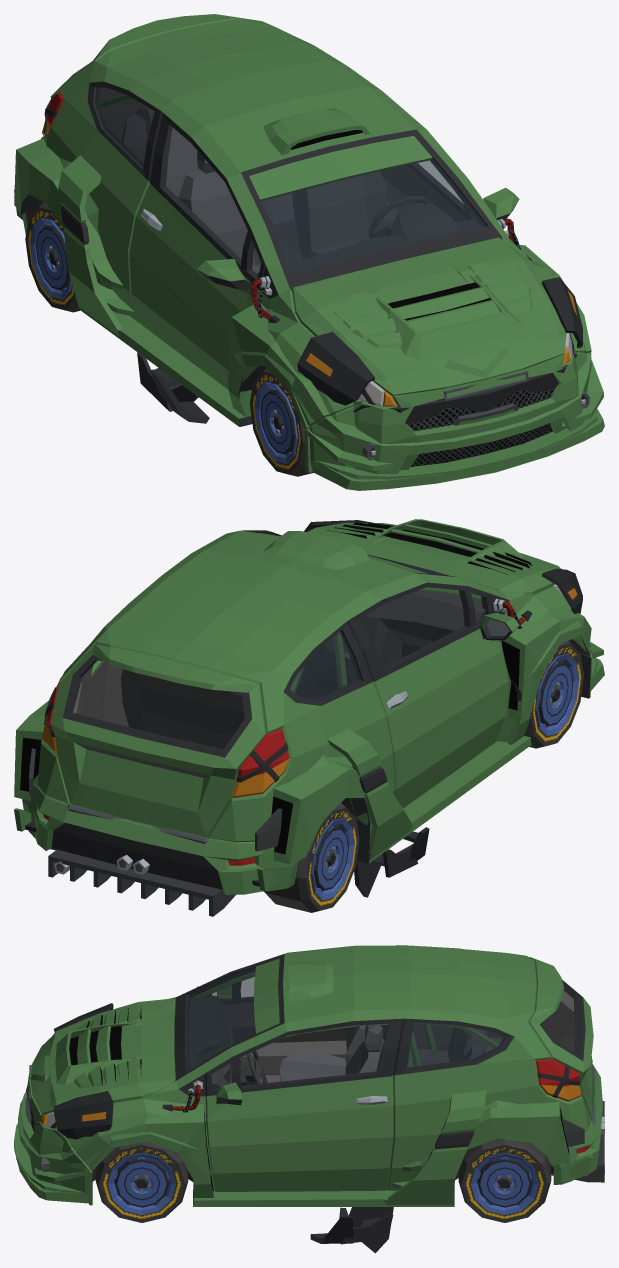
File: redline_street_hatch.glb
The picture shows the model from 3 angles, top to bottom: view 1: azimuth 30°, elevation 25°; view 2: azimuth 150°, elevation 25°; view 3: azimuth 270°, elevation 25°; orthographic projection. The views are drawn at different scales.
Parts seen in each view (by area): view 1: Body, Glass, Door_R, V_Bonnet_04, V_Front_Bumper_03, V_Front_Bumper_01, V_Fenders_03, V_Bonnet_01, V_Bonnet_02, V_Fenders_04, V_Windscreen_Sticker_01, V_Side_Skirts_04 (+14 smaller); view 2: Body, Trunk, Door_R, V_Fenders_03, V_Rear_Bumper_02, V_Rear_Bumper_03, V_Side_Skirts_04, V_Side_Skirts_03, V_Bonnet_04, V_Fenders_02, Glass, V_Bonnet_02 (+17 smaller); view 3: Body, Door_L, Glass, V_Fenders_03, V_Side_Skirts_04, V_Bonnet_04, Trunk, W_Wheel_RL_03, Door_R, W_Wheel_FL_03, V_Fenders_04, V_Side_Skirts_03 (+19 smaller).
Boxes of the visible parts, <box> form: Body: <box>41,19,572,406</box>; Glass: <box>95,87,486,274</box>; Door_R: <box>129,113,265,389</box>; V_Bonnet_04: <box>293,237,565,381</box>; V_Front_Bumper_03: <box>304,352,604,490</box>; V_Front_Bumper_01: <box>354,351,578,470</box>; V_Fenders_03: <box>14,138,591,429</box>; V_Bonnet_01: <box>292,241,566,395</box>; V_Bonnet_02: <box>364,269,524,386</box>; V_Fenders_04: <box>33,198,582,405</box>; V_Windscreen_Sticker_01: <box>249,136,432,200</box>; V_Side_Skirts_04: <box>58,155,252,422</box>; Body: <box>37,530,562,842</box>; Trunk: <box>50,644,266,837</box>; Door_R: <box>347,582,519,808</box>; V_Fenders_03: <box>14,612,591,864</box>; V_Rear_Bumper_02: <box>22,783,299,894</box>; V_Rear_Bumper_03: <box>36,786,259,916</box>; V_Side_Skirts_04: <box>327,681,530,860</box>; V_Side_Skirts_03: <box>356,736,531,863</box>; V_Bonnet_04: <box>307,522,561,594</box>; V_Fenders_02: <box>33,586,590,825</box>; Glass: <box>268,534,440,700</box>; V_Bonnet_02: <box>376,519,523,569</box>; Body: <box>40,945,591,1191</box>; Door_L: <box>205,1018,402,1191</box>; Glass: <box>186,967,504,1070</box>; V_Fenders_03: <box>75,1101,569,1180</box>; V_Side_Skirts_04: <box>193,1090,486,1204</box>; V_Bonnet_04: <box>30,998,175,1107</box>; Trunk: <box>528,957,595,1119</box>; W_Wheel_RL_03: <box>458,1138,550,1222</box>; Door_R: <box>207,945,400,1075</box>; W_Wheel_FL_03: <box>95,1141,188,1222</box>; V_Fenders_04: <box>53,986,584,1147</box>; V_Side_Skirts_03: <box>193,1155,454,1206</box>.
Size of the model in its own units: 2.22 by 2.02 by 4.45.
4 materials, 3 textured.
